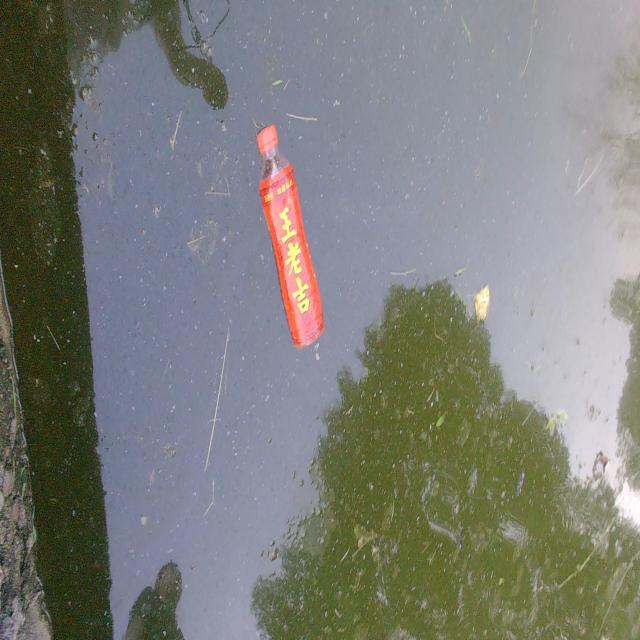garbage: (256, 123, 326, 349)
